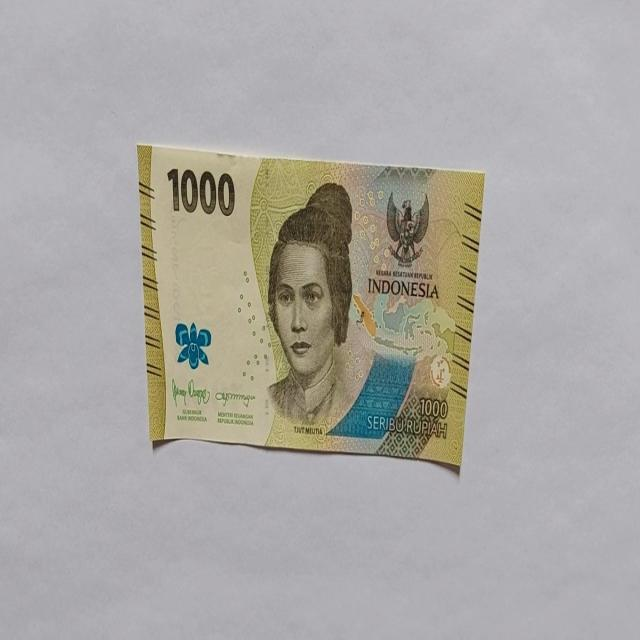seribu rupiah kertas: (137, 142, 486, 470)
